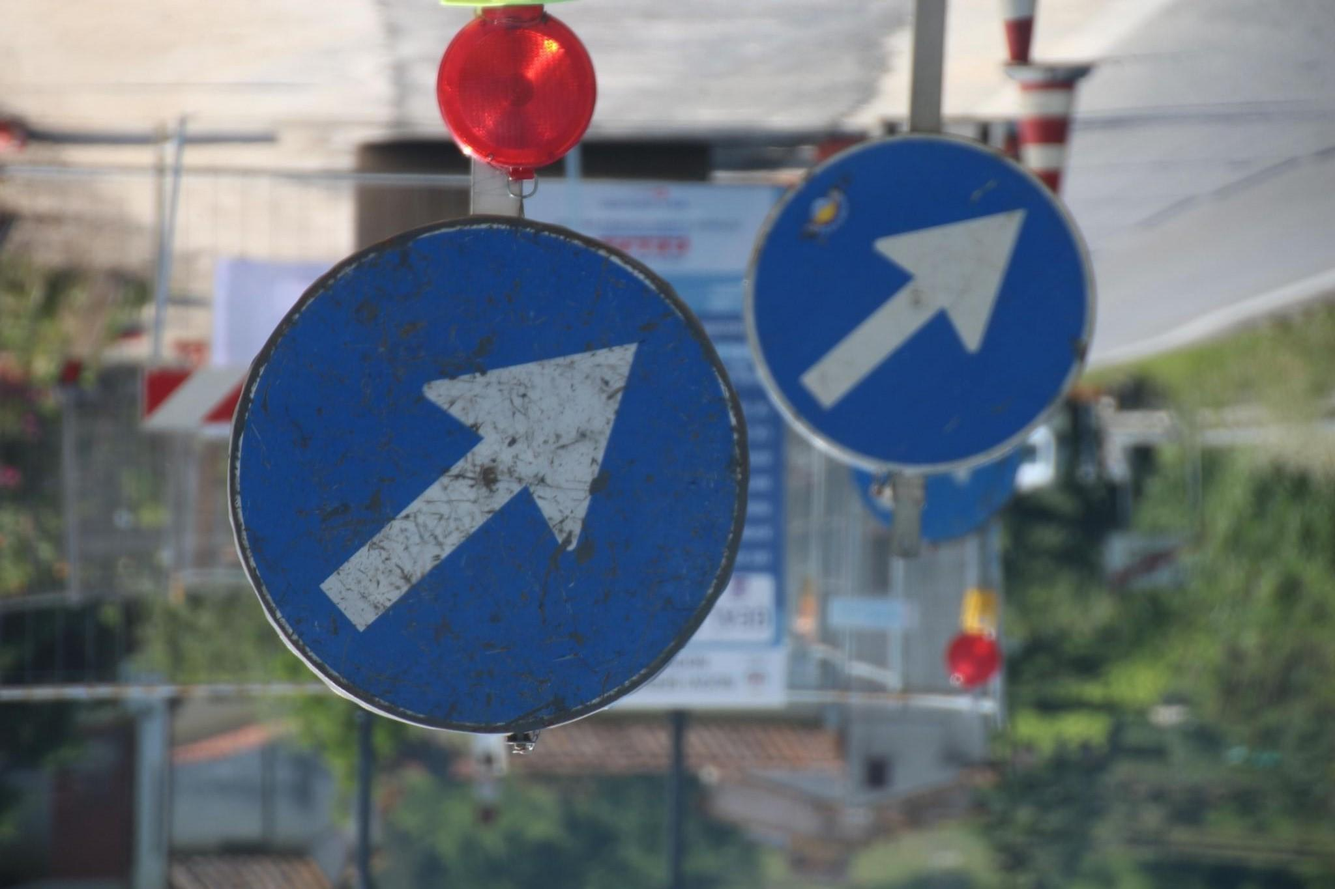obstructed_road_sign: (222, 206, 745, 737), (135, 359, 250, 440)
road_sign: (745, 129, 1098, 475)
